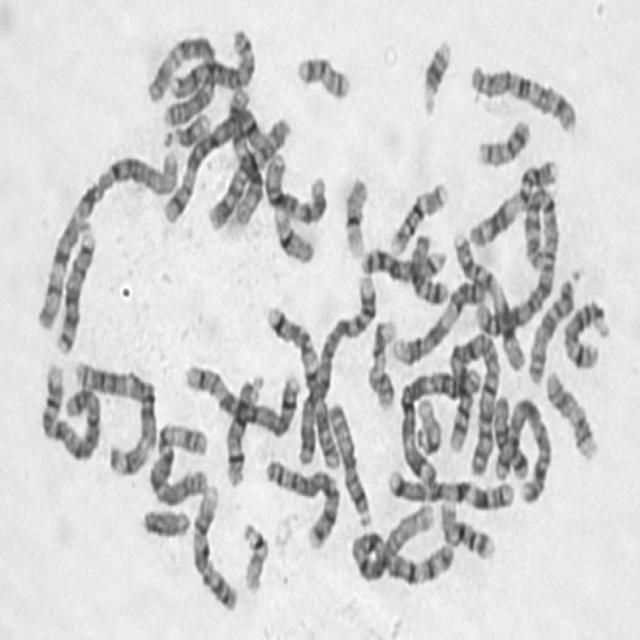A1: (34, 142, 186, 338), (346, 501, 456, 587)
A2: (471, 174, 562, 341), (443, 327, 502, 475)
A3: (69, 352, 157, 478), (394, 360, 481, 484)
B4: (294, 268, 378, 470), (36, 356, 104, 463)
B5: (157, 94, 266, 227), (181, 357, 301, 438)
C10: (204, 110, 291, 232), (466, 56, 579, 136)
C11: (448, 224, 526, 375), (465, 152, 561, 249)
C12: (224, 82, 266, 230), (260, 149, 330, 227)
C6: (143, 28, 218, 132), (144, 415, 211, 507)
C7: (260, 298, 343, 471), (384, 461, 516, 512)
C8: (260, 451, 342, 552), (163, 21, 258, 100)
C9: (387, 269, 490, 367), (187, 477, 240, 614)
D13: (52, 213, 98, 357), (357, 240, 448, 284)
D14: (222, 368, 266, 488), (559, 292, 611, 371)
D15: (523, 268, 581, 387), (323, 396, 373, 526)
E16: (385, 174, 450, 257), (435, 493, 497, 562)
E17: (542, 364, 600, 464), (363, 311, 399, 412)
E18: (489, 390, 531, 482), (406, 225, 451, 307)
F19: (339, 169, 371, 261), (270, 203, 317, 265)
F20: (291, 46, 353, 103), (473, 111, 533, 168)
G21: (416, 30, 454, 118), (160, 106, 212, 150)
G22: (237, 515, 271, 595), (412, 389, 443, 456)
Y: (138, 502, 191, 541)
